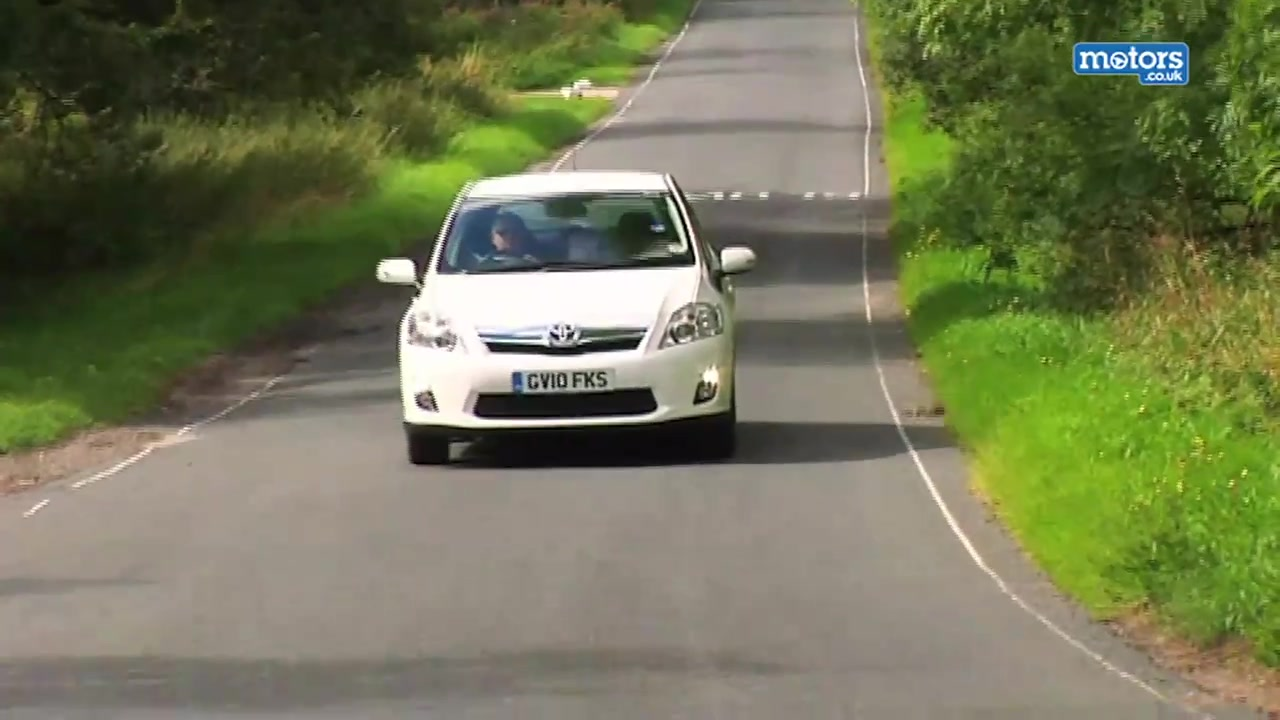car: (376, 165, 757, 468)
